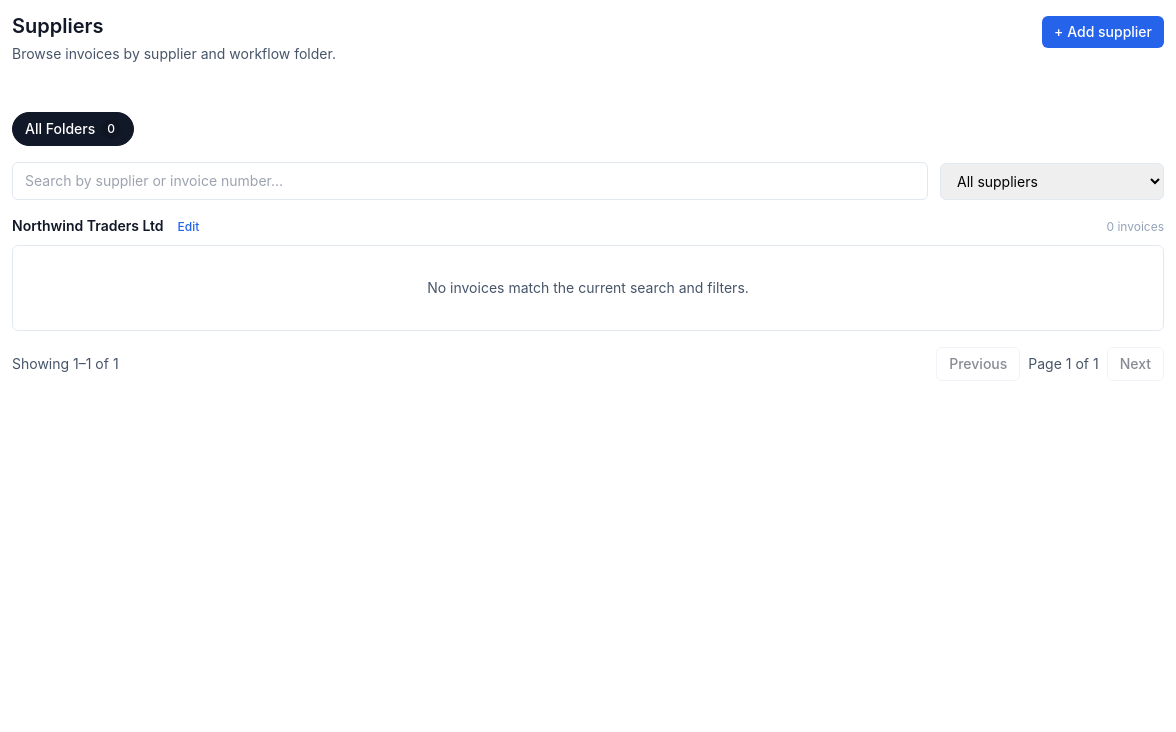
Test: SuppliersPage — create/edit wiring (WP-027) › a FINANCE_MANAGER user sees an editable Credit Limit input when editing
The width and height of the screenshot is (1176, 732).
Click the button "Edit" at point(188, 227), box left=172, top=217, right=205, bottom=237
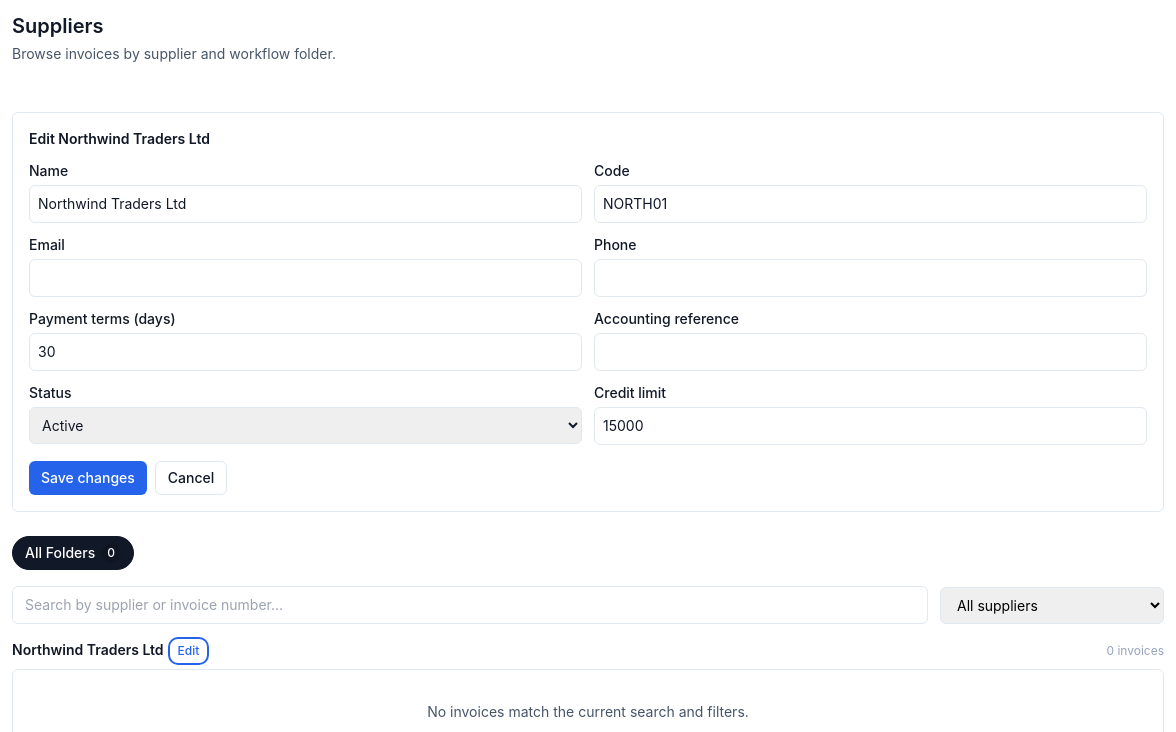
Check: the number field labelled "Credit limit" holds "15000", box left=594, top=407, right=1147, bottom=445
